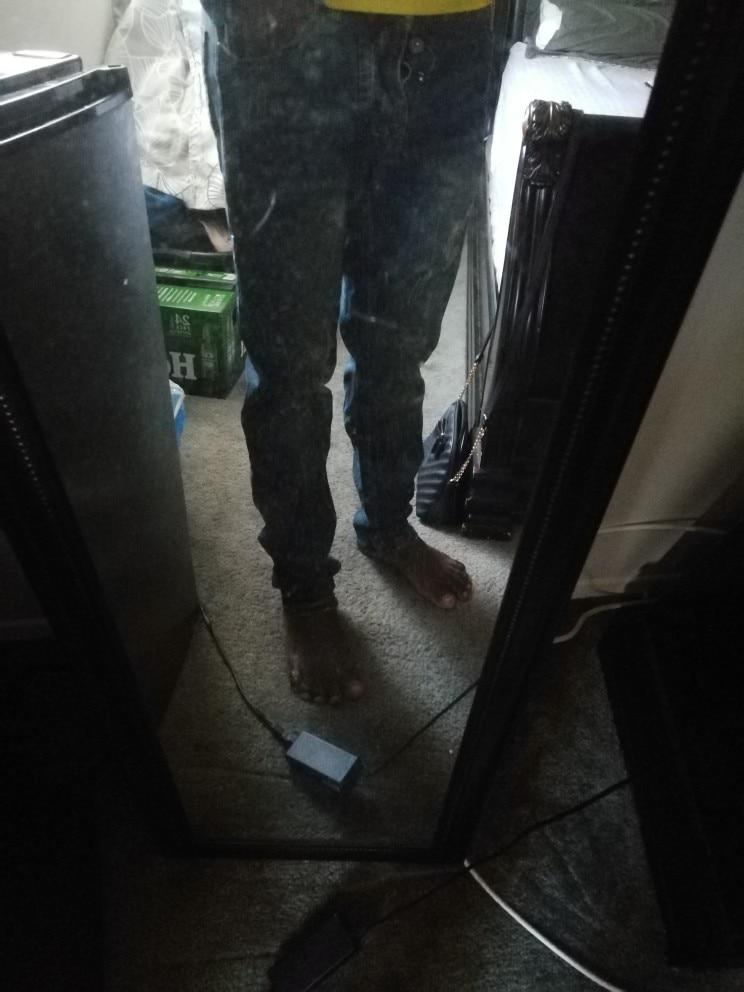jeans: (203, 4, 494, 607)
